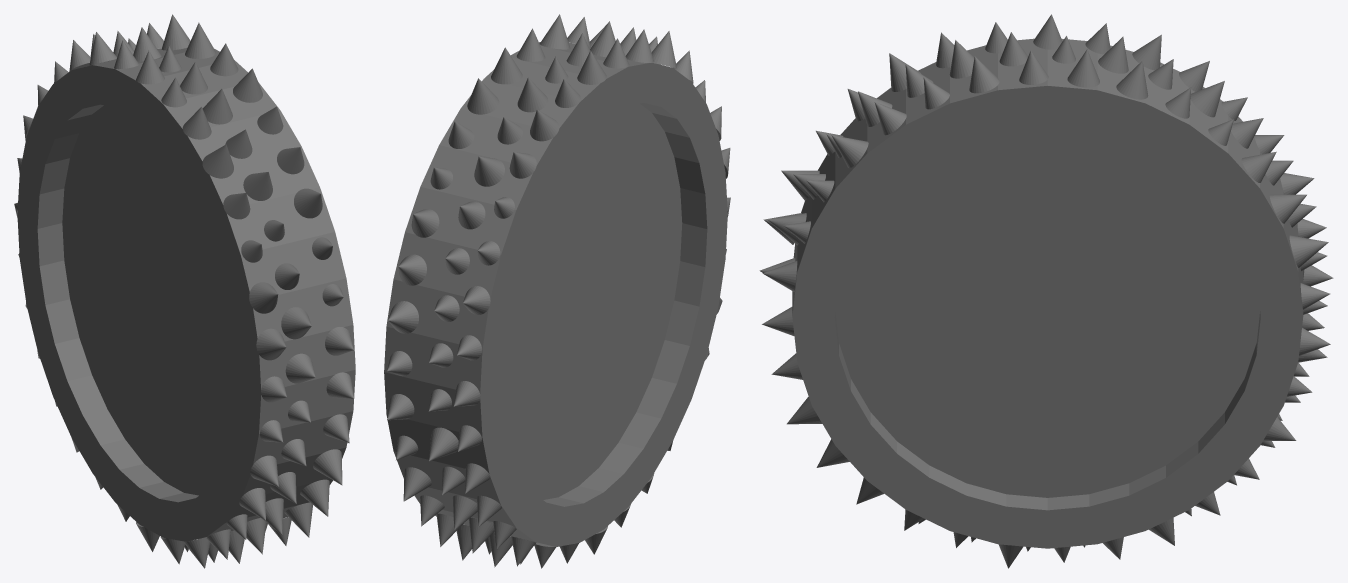
The model's file is enemy_R_wheel.obj.
3 renders of one model, left to right at view 1: azimuth 30°, elevation 25°; view 2: azimuth 150°, elevation 25°; view 3: azimuth 270°, elevation 25°, orthographic. The views are drawn at different scales.
Visible parts, largest first — view 1: タイヤ2; view 2: タイヤ2; view 3: タイヤ2.
Part boxes in pixels (left/top/right/bottom): タイヤ2: left=14, top=14, right=355, bottom=568; タイヤ2: left=384, top=14, right=730, bottom=568; タイヤ2: left=759, top=14, right=1333, bottom=568.
Bounding box in the file's own units: 0.1632 × 0.8028 × 0.7976.
Materials: 1 (1 with a texture image).
